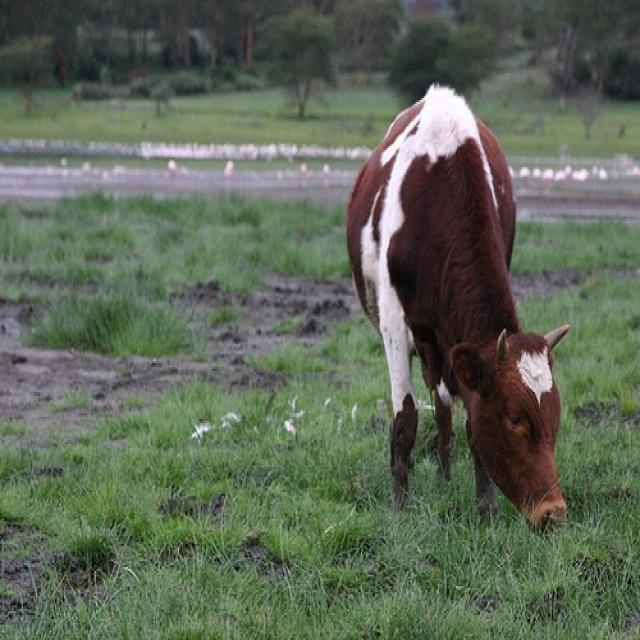cow: (347, 82, 568, 535)
